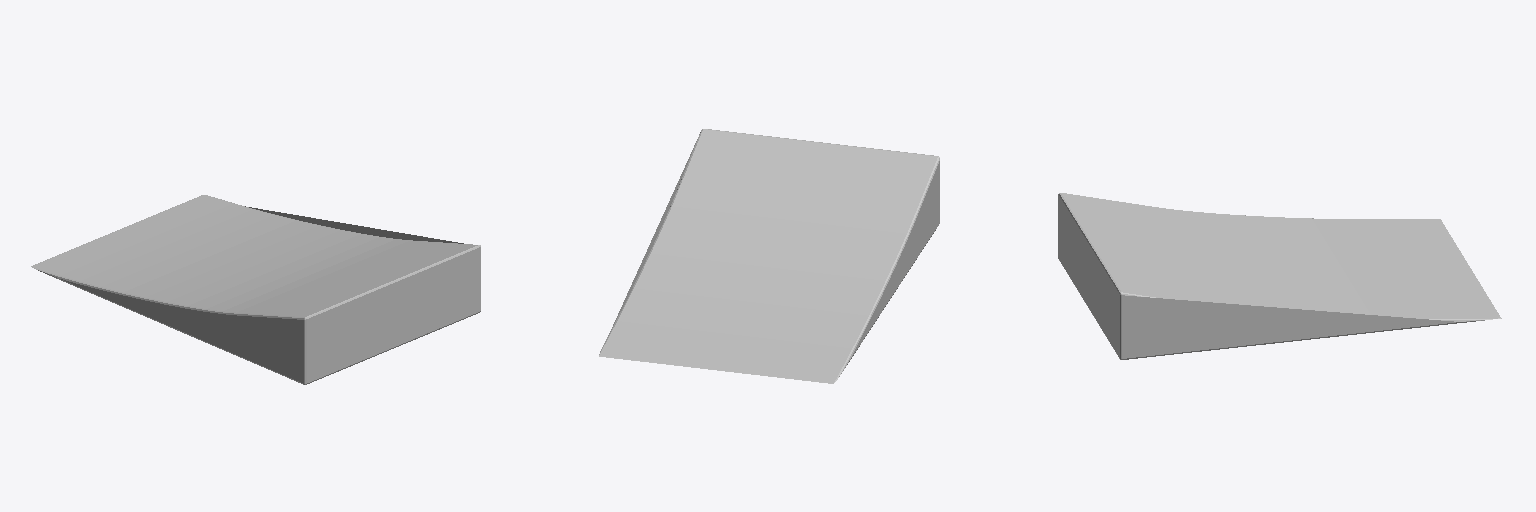
File: rail_kicker.obj
The picture shows the model from 3 angles: view 1: azimuth 30°, elevation 25°; view 2: azimuth 150°, elevation 25°; view 3: azimuth 270°, elevation 25°; orthographic projection.
Parts seen in each view (by area): view 1: Cube.025_Cube.032; view 2: Cube.025_Cube.032; view 3: Cube.025_Cube.032.
Part boxes in pixels (bbox=[...]): Cube.025_Cube.032: bbox=[31, 195, 480, 384]; Cube.025_Cube.032: bbox=[599, 129, 939, 383]; Cube.025_Cube.032: bbox=[1058, 193, 1501, 359].
Size of the model in its own units: 1.17 by 0.261 by 1.55.